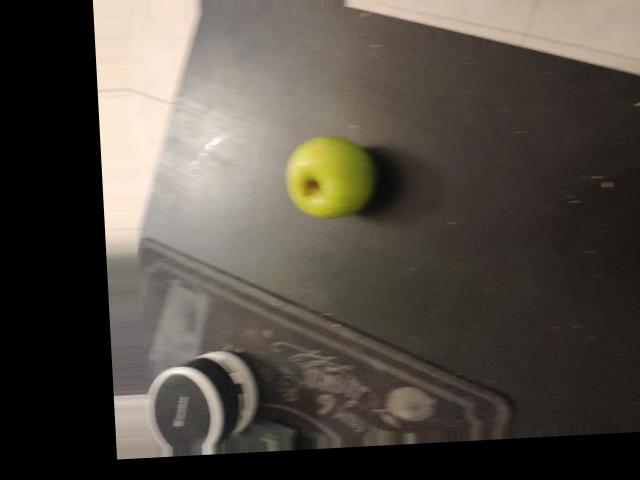apple: (253, 171, 368, 301)
